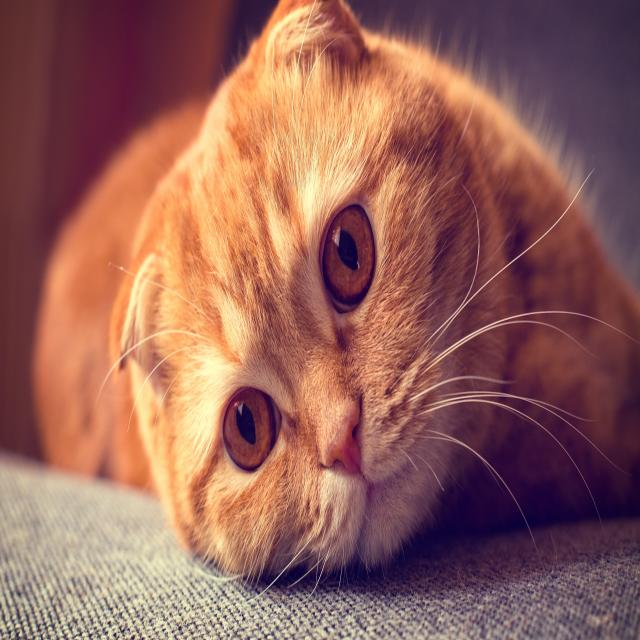Scottish Fold: (22, 0, 640, 582)
